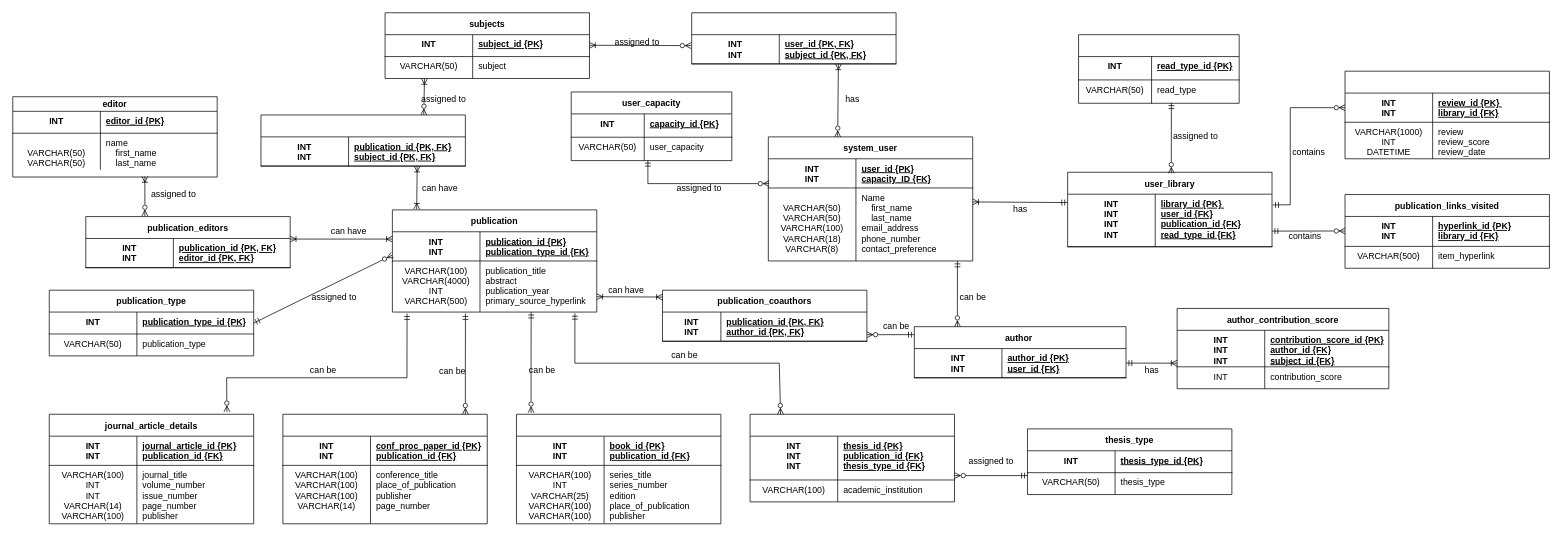
This 1562x539 diagram has some shape labels left out. The box of each missing label's shape, as (x1, y1, x2, y2) in pixels:
book_details: (516, 414, 721, 524)
conference_proceeding_paper_details: (282, 414, 487, 524)
item_read_type: (1078, 34, 1239, 103)
publication_subject_areas: (260, 114, 465, 166)
thesis_details: (749, 414, 954, 502)
user_reviews: (1344, 70, 1549, 159)
user_subject_preference: (691, 12, 896, 64)
